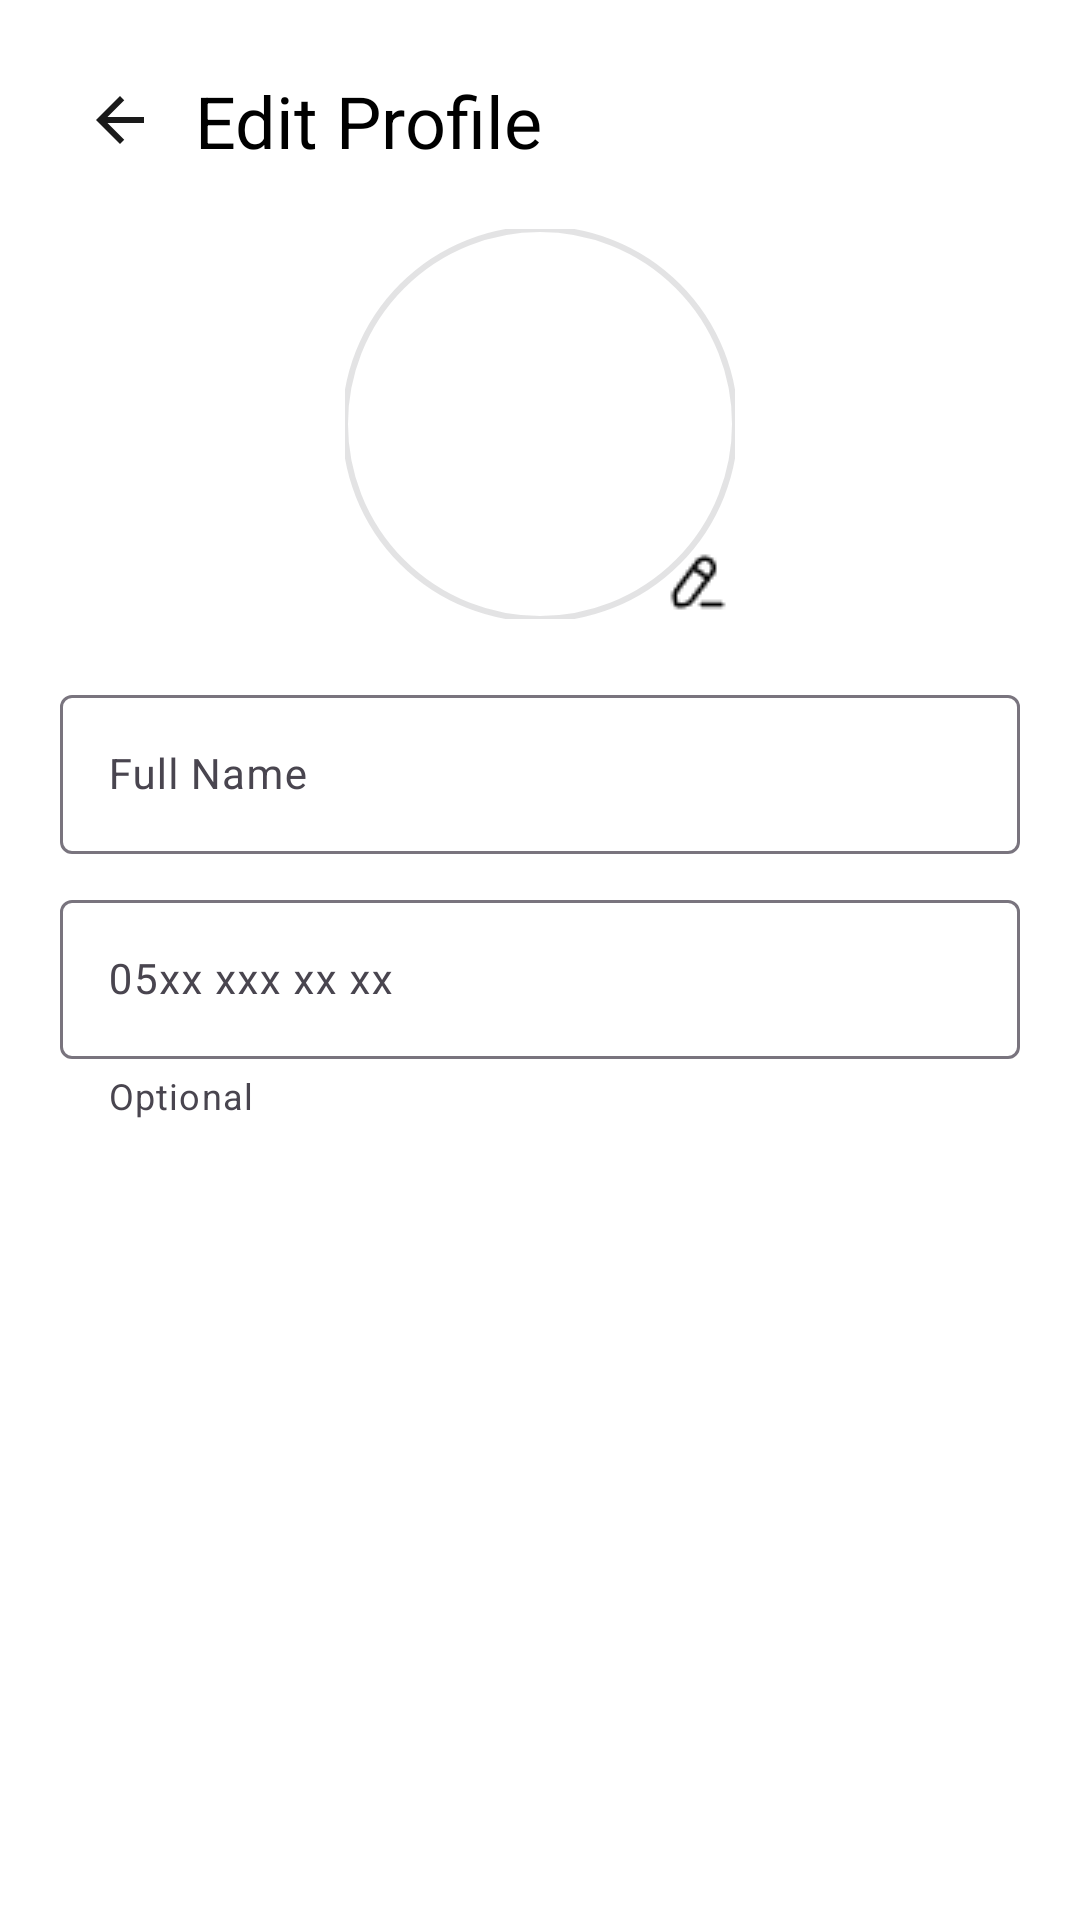

Icon bounding boxes for this 1080 x 1920 phone screenshot, format rect(x1, y1, x2, y2):
arrow back: rect(96, 96, 144, 144)
edit pet: rect(670, 554, 726, 610)
